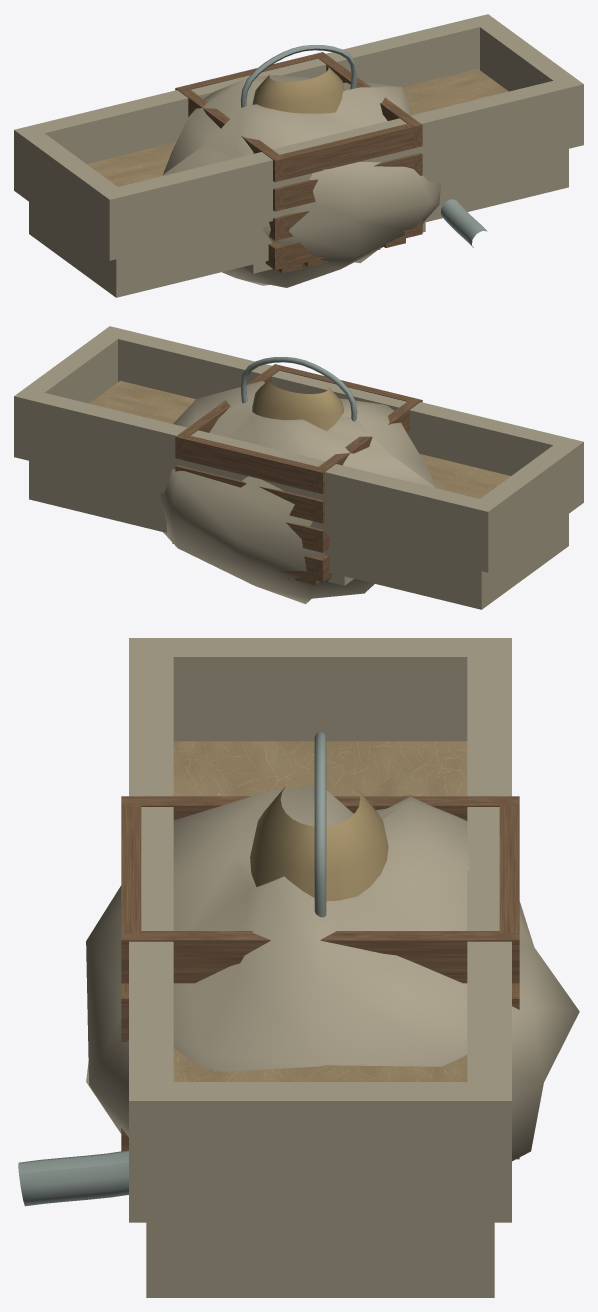
Rendered from props.glb.
The picture shows the model from 3 angles, top to bottom: view 1: azimuth 30°, elevation 25°; view 2: azimuth 150°, elevation 25°; view 3: azimuth 270°, elevation 25°; orthographic projection. The views are drawn at different scales.
Parts seen in each view (by area): view 1: feed_trough_warm_lime_concrete, weathered_rock, crate_warm_weathered_hardwood, feed_surface, woven_feed_sack, milk_pail_brushed_galvanized_steel, pump_brushed_galvanized_steel; view 2: feed_trough_warm_lime_concrete, weathered_rock, crate_warm_weathered_hardwood, feed_surface, woven_feed_sack, milk_pail_brushed_galvanized_steel; view 3: feed_trough_warm_lime_concrete, weathered_rock, feed_surface, crate_warm_weathered_hardwood, woven_feed_sack, pump_brushed_galvanized_steel, milk_pail_brushed_galvanized_steel.
Boxes of the visible parts, x1,y1,x2,y2 form: feed_trough_warm_lime_concrete: (14,14,583,297); weathered_rock: (163,75,440,287); crate_warm_weathered_hardwood: (175,52,422,273); feed_surface: (87,68,508,186); woven_feed_sack: (252,66,344,113); milk_pail_brushed_galvanized_steel: (240,45,357,107); pump_brushed_galvanized_steel: (441,199,487,247); feed_trough_warm_lime_concrete: (14,326,583,609); weathered_rock: (160,381,436,604); crate_warm_weathered_hardwood: (175,364,422,585); feed_surface: (89,380,510,498); woven_feed_sack: (252,378,343,430); milk_pail_brushed_galvanized_steel: (240,357,357,421); feed_trough_warm_lime_concrete: (129,638,511,1297); weathered_rock: (86,785,579,1161); feed_surface: (173,741,467,1081); crate_warm_weathered_hardwood: (121,796,519,1159); woven_feed_sack: (250,786,388,901); pump_brushed_galvanized_steel: (18,1150,128,1206); milk_pail_brushed_galvanized_steel: (314,732,326,917).
Bounding box in the file's own units: 2.2 × 0.9832 × 1.13.
Materials: 7 (2 with a texture image).
